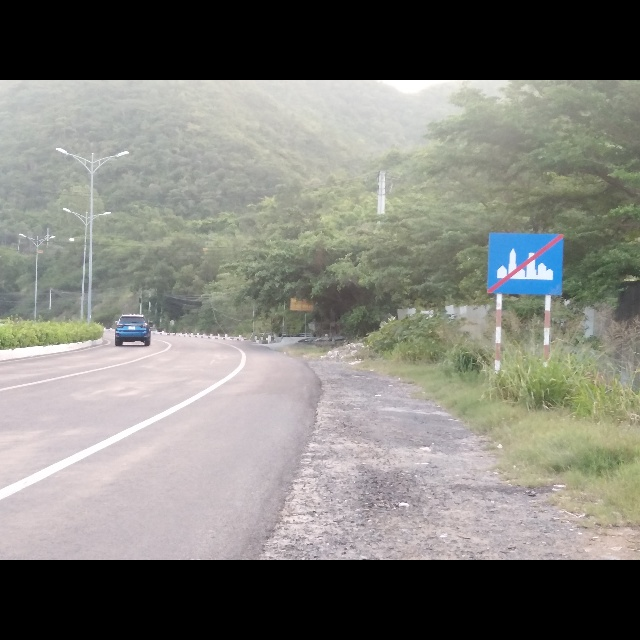Hết khu đông dân cư: (486, 230, 565, 298)
